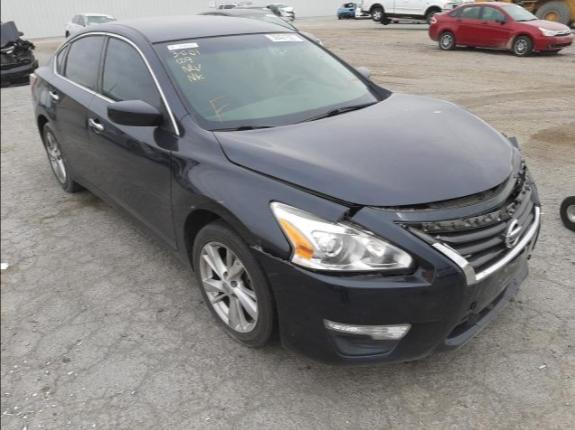Broken part: (392, 152, 540, 344), (228, 148, 516, 222), (251, 234, 420, 280)
Scratch: (267, 273, 278, 276)
